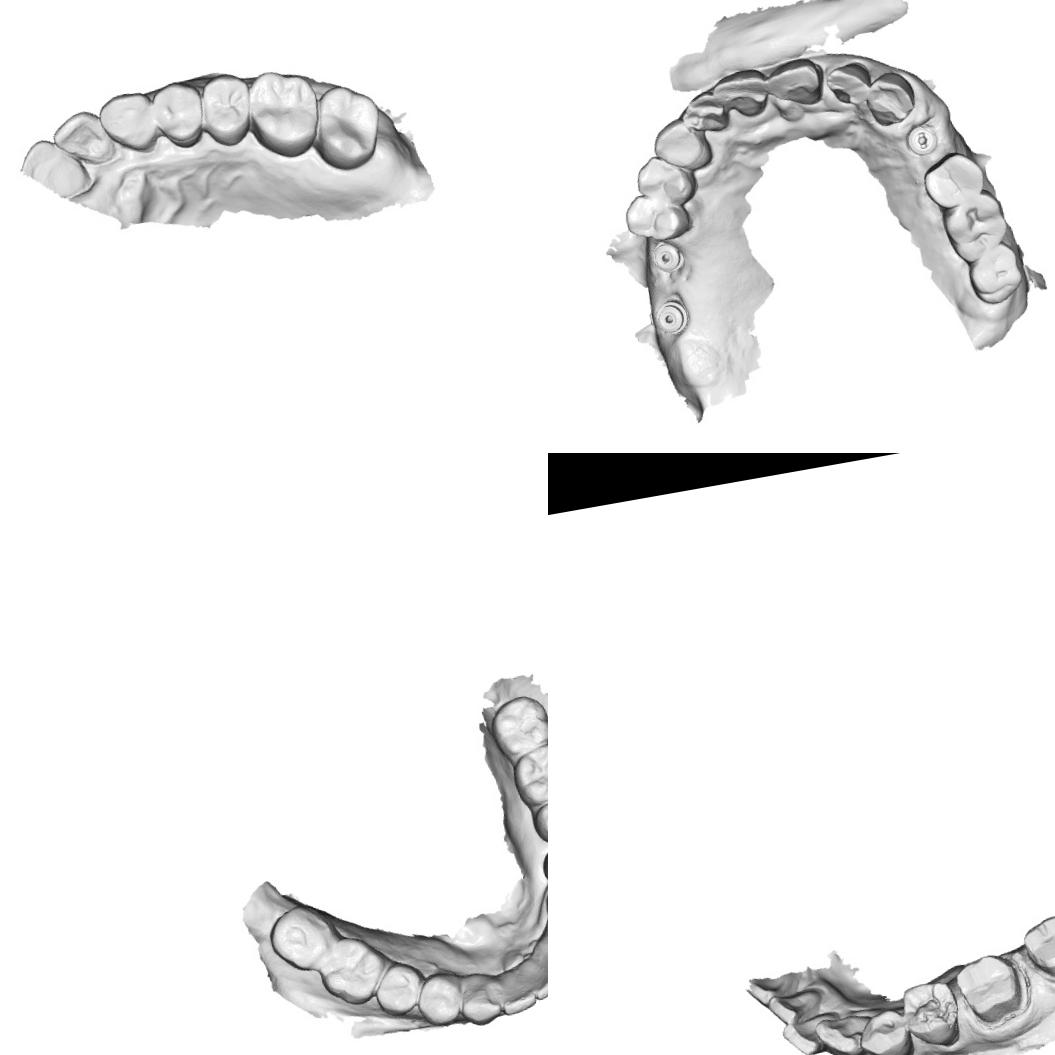canine: (95, 85, 162, 159), (647, 112, 716, 178), (861, 66, 920, 131), (811, 1006, 880, 1055), (454, 969, 505, 1030)
crown: (951, 946, 1036, 1030), (1017, 906, 1055, 992)
implant: (650, 294, 692, 338), (647, 238, 687, 278)
implant_minus: (902, 118, 942, 159)
incisor: (48, 104, 120, 172), (761, 52, 828, 112), (707, 63, 772, 124), (779, 1007, 847, 1055), (822, 57, 878, 112), (764, 984, 830, 1030), (676, 86, 729, 140), (492, 964, 540, 1018), (517, 954, 548, 1004), (537, 936, 548, 983)
molar: (240, 62, 326, 164), (302, 77, 390, 176), (310, 928, 394, 1012), (262, 896, 341, 977), (936, 184, 1014, 266), (961, 238, 1028, 311), (483, 689, 548, 764), (507, 737, 548, 812)
premolar: (896, 976, 966, 1054), (193, 70, 258, 151), (917, 145, 989, 212), (148, 76, 209, 152), (620, 186, 692, 248), (630, 148, 698, 211), (368, 956, 431, 1020), (410, 968, 466, 1030), (853, 1004, 917, 1055), (528, 790, 548, 847)
